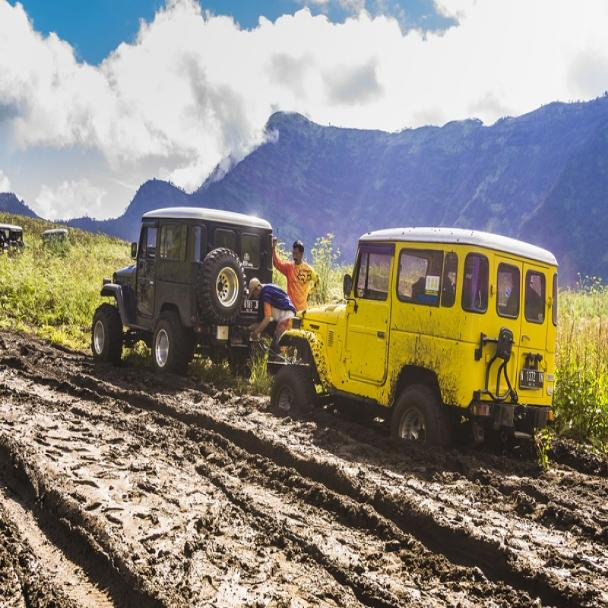Mobil: (298, 224, 560, 443), (96, 206, 267, 380)
